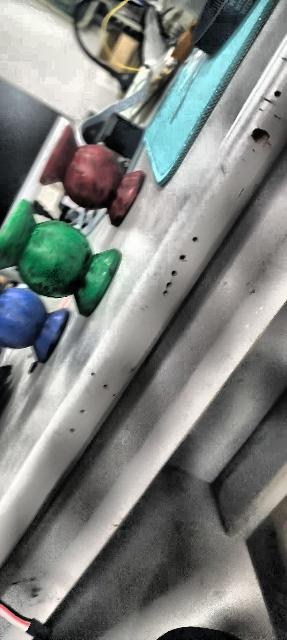blue: (0, 289, 70, 364)
green: (0, 199, 119, 318)
red: (38, 127, 144, 226)
